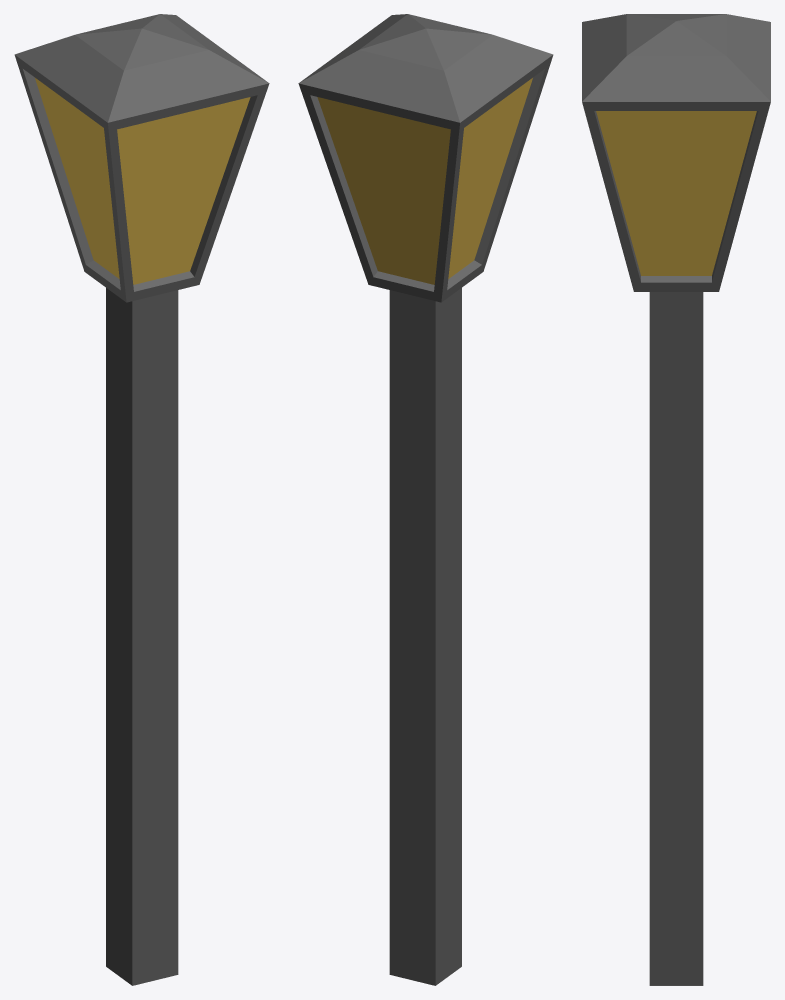
The model's file is BrokenLamppostBig.fbx.
3 views of the same model, side by side, from view 1: azimuth 30°, elevation 25°; view 2: azimuth 150°, elevation 25°; view 3: azimuth 270°, elevation 25° (orthographic).
Parts seen in each view (by area): view 1: Cube.001, Cube; view 2: Cube.001, Cube; view 3: Cube, Cube.001.
Part boxes in pixels (box(x1,y1,x2,y2)): Cube.001: box(106, 288, 178, 985); Cube: box(14, 14, 269, 302); Cube.001: box(389, 288, 461, 985); Cube: box(298, 14, 553, 302); Cube: box(582, 14, 770, 291); Cube.001: box(649, 292, 703, 985).
Bounding box in the file's own units: 168 × 935 × 168.
